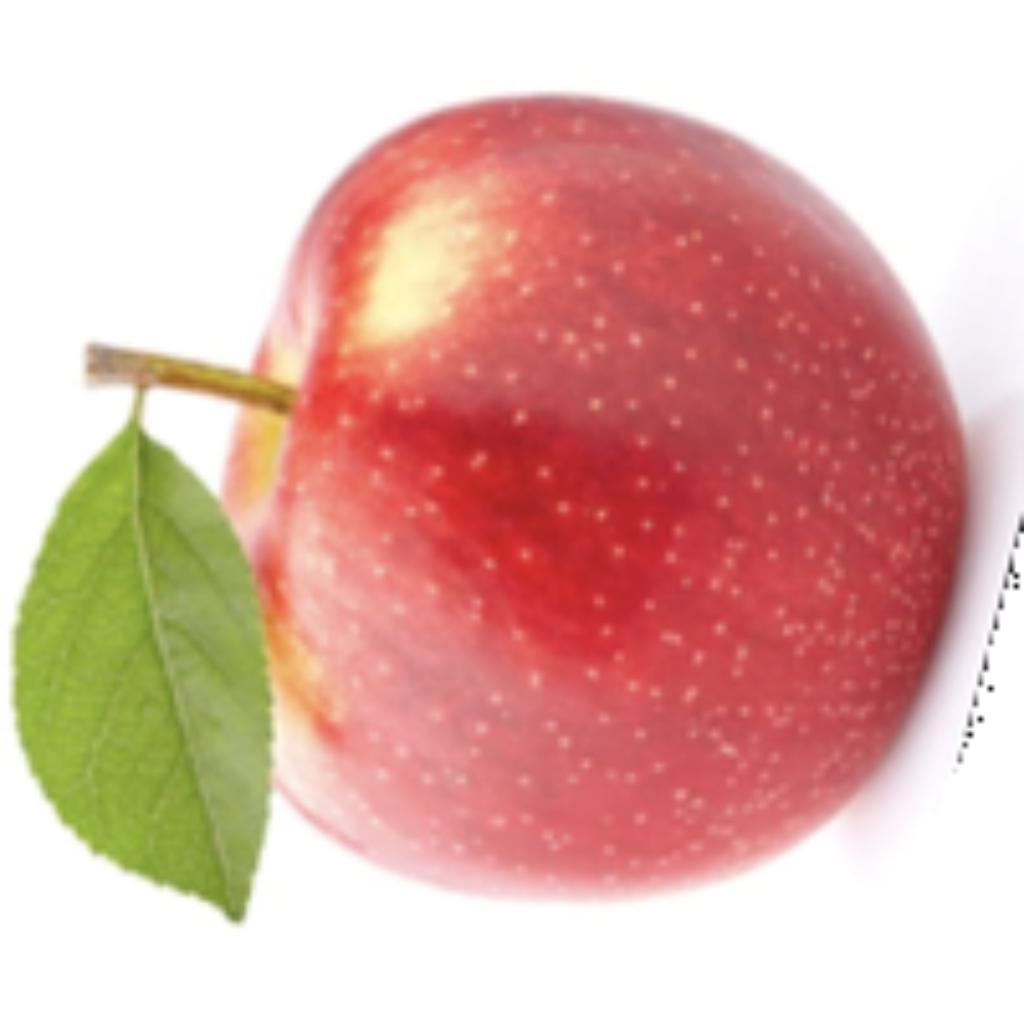apple: (5, 84, 1019, 927)
